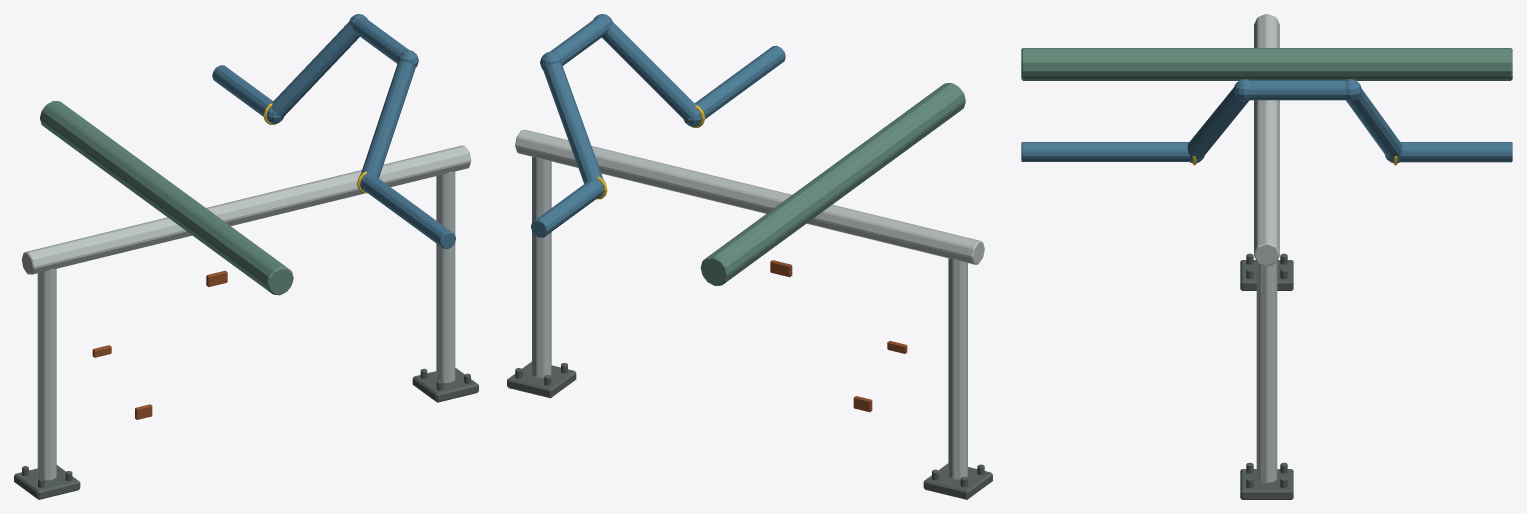
The model's file is runtime.glb.
3 renders of one model, left to right at view 1: azimuth 30°, elevation 25°; view 2: azimuth 150°, elevation 25°; view 3: azimuth 270°, elevation 25°, orthographic. The views are drawn at different scales.
Visible parts, largest first — view 1: reactor-pipe-support-v09_nocol; view 2: reactor-pipe-support-v09_nocol; view 3: reactor-pipe-support-v09_nocol.
Boxes of the visible parts, left/top/right/bottom form: reactor-pipe-support-v09_nocol: left=14, top=14, right=478, bottom=499; reactor-pipe-support-v09_nocol: left=507, top=14, right=992, bottom=499; reactor-pipe-support-v09_nocol: left=1021, top=14, right=1512, bottom=499.
Size of the model in its own units: 4.91 by 3.8 by 4.4.
